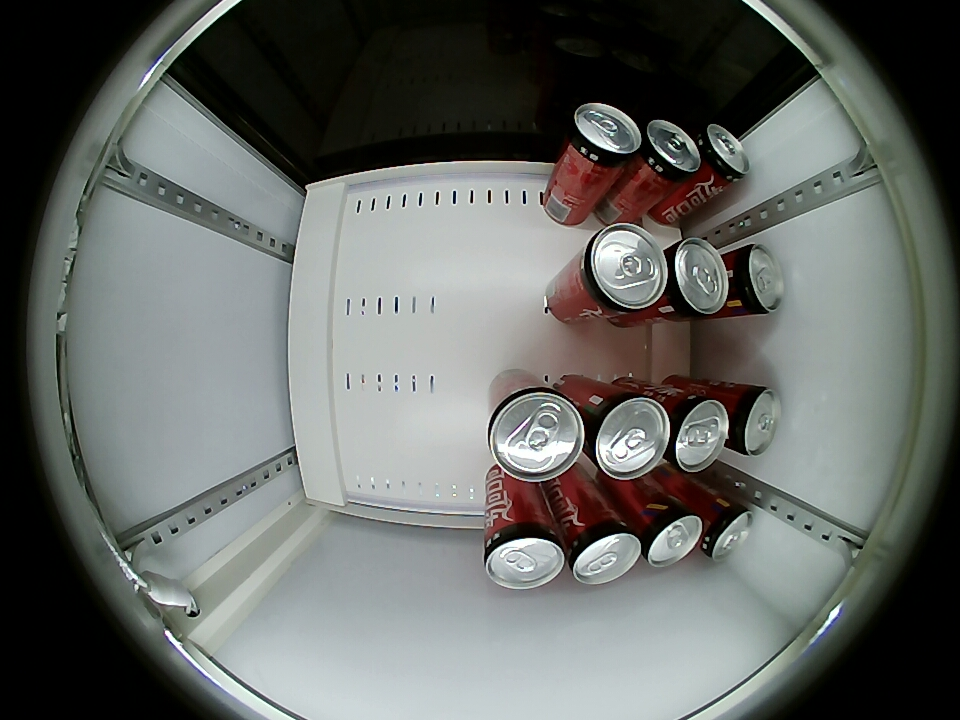lingdukele: (487, 382, 586, 483), (572, 222, 669, 322), (587, 392, 671, 481), (483, 519, 566, 590), (660, 237, 729, 318), (663, 391, 729, 472), (565, 103, 641, 172), (567, 517, 642, 585), (637, 119, 700, 184), (728, 244, 784, 316), (639, 505, 702, 567), (727, 384, 781, 456), (698, 497, 753, 561), (698, 124, 751, 187)
